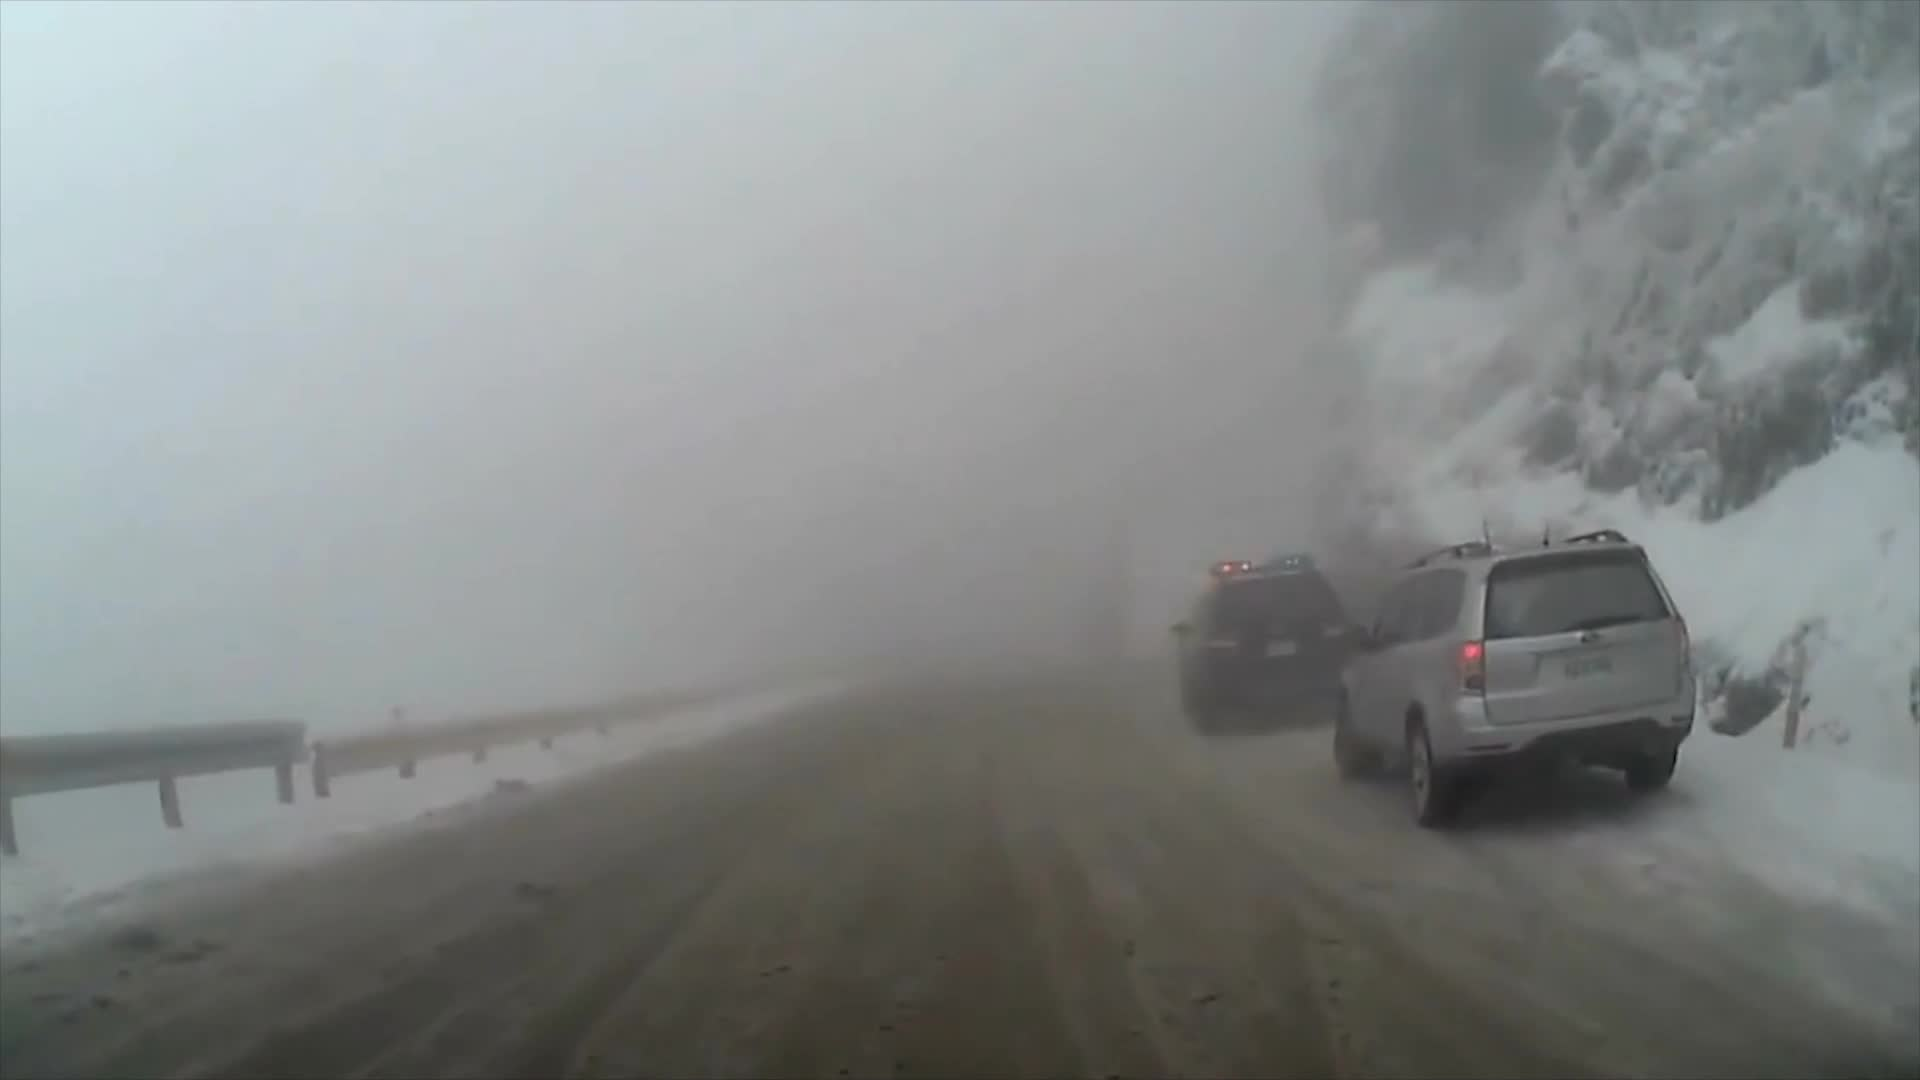vehicle: (1331, 527, 1698, 829), (1171, 545, 1360, 731)
